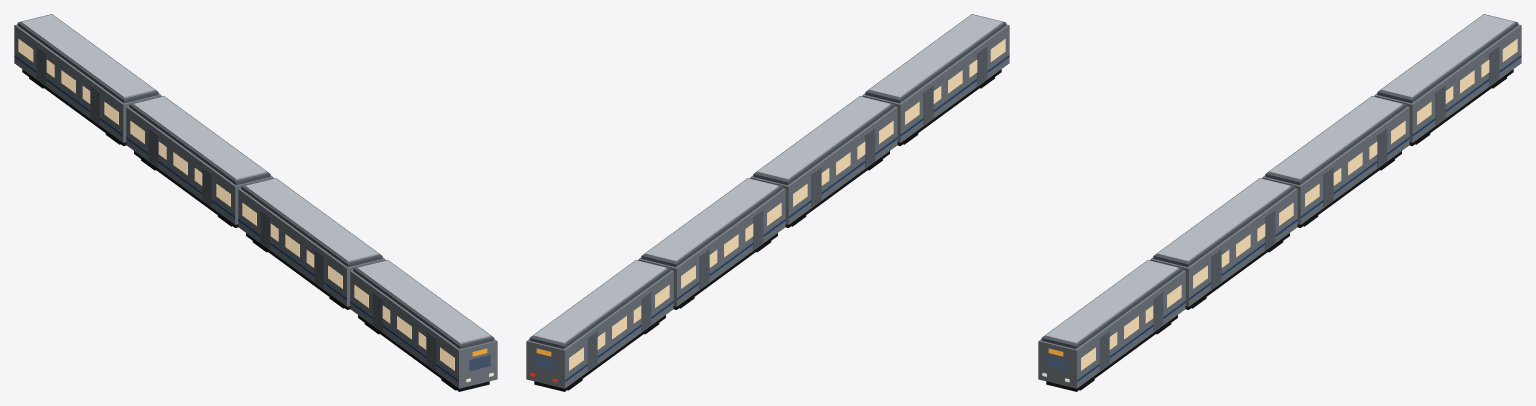
File: train.glb
The picture shows the model from 3 angles, left to right: view 1: azimuth 30°, elevation 25°; view 2: azimuth 150°, elevation 25°; view 3: azimuth 330°, elevation 25°; orthographic projection.
Size of what is drawn, in the model's own units: 2.94 by 3.77 by 58.47.
